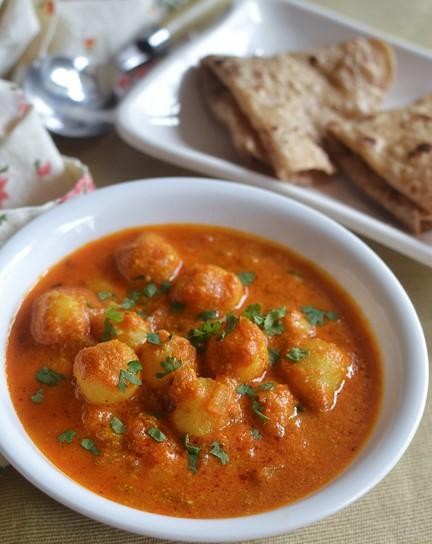DumAloo: (7, 219, 384, 519)
